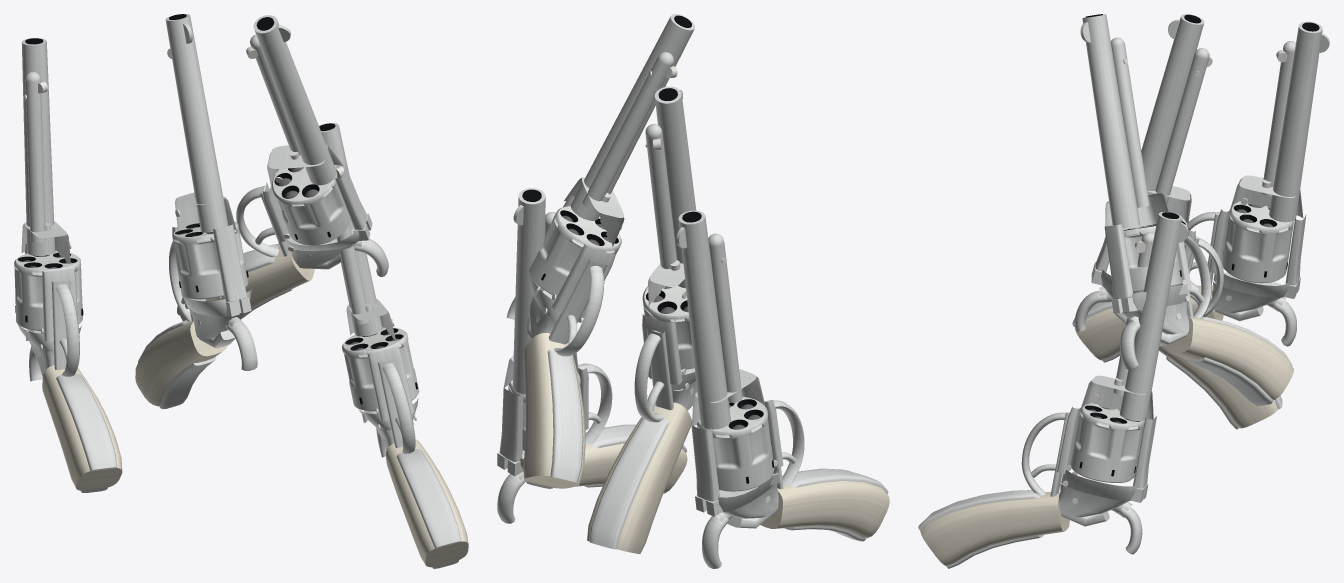
File: gun.hardins-pair.gltf
3 renders of one model, left to right at view 1: azimuth 30°, elevation 25°; view 2: azimuth 150°, elevation 25°; view 3: azimuth 270°, elevation 25°, orthographic. The views are drawn at different scales.
Visible parts, largest first — view 1: revolver (×4); view 2: revolver (×4); view 3: revolver (×4).
Boxes of the visible parts, box(x1,y1,x2,y2) form: revolver (×4): box(14, 14, 468, 568); revolver (×4): box(497, 14, 889, 568); revolver (×4): box(918, 14, 1329, 568).
Size of the model in its own units: 0.2896 by 0.4212 by 0.3108.
1 material, 1 textured.
